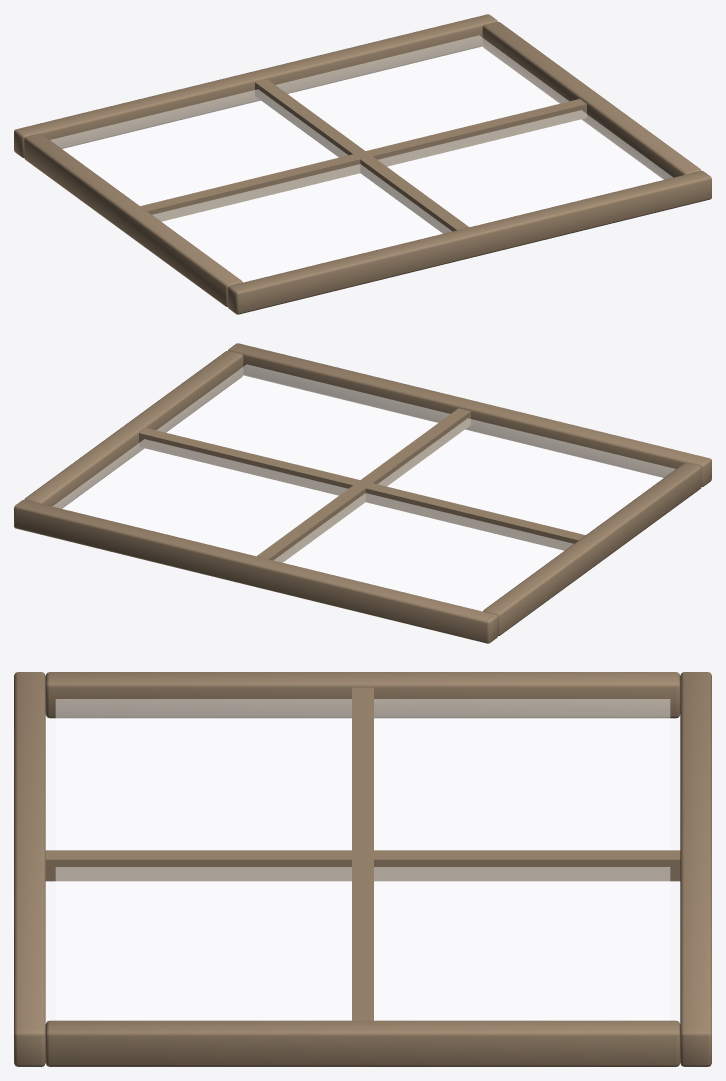
Rendered from window.glb.
3 views of the same model, one above another, from view 1: azimuth 30°, elevation 25°; view 2: azimuth 150°, elevation 25°; view 3: azimuth 270°, elevation 25° (orthographic). The views are drawn at different scales.
Parts seen in each view (by area): view 1: WinGlass, WinBottom, WinTop, WinHDiv, WinLeft, WinRight, WinVDiv; view 2: WinGlass, WinTop, WinBottom, WinHDiv, WinLeft, WinRight, WinVDiv; view 3: WinGlass, WinRight, WinLeft, WinVDiv, WinBottom, WinTop, WinHDiv.
Boxes of the visible parts, left/top/right/bottom form: WinGlass: left=50, top=35, right=672, bottom=281; WinBottom: left=227, top=171, right=711, bottom=314; WinTop: left=14, top=14, right=497, bottom=157; WinHDiv: left=140, top=99, right=586, bottom=221; WinLeft: left=24, top=133, right=242, bottom=306; WinRight: left=482, top=22, right=701, bottom=179; WinVDiv: left=255, top=79, right=468, bottom=233; WinGlass: left=53, top=364, right=675, bottom=610; WinTop: left=14, top=500, right=498, bottom=643; WinBottom: left=228, top=343, right=711, bottom=486; WinHDiv: left=139, top=428, right=585, bottom=550; WinLeft: left=483, top=462, right=701, bottom=635; WinRight: left=24, top=351, right=243, bottom=508; WinVDiv: left=257, top=408, right=470, bottom=562; WinGlass: left=56, top=699, right=669, bottom=1020; WinRight: left=45, top=1020, right=680, bottom=1066; WinLeft: left=45, top=672, right=680, bottom=718; WinVDiv: left=45, top=850, right=680, bottom=881; WinBottom: left=14, top=672, right=45, bottom=1066; WinTop: left=680, top=672, right=711, bottom=1066; WinHDiv: left=352, top=687, right=373, bottom=1020.
Bounding box in the file's own units: 2.16 × 0.1 × 1.76.
